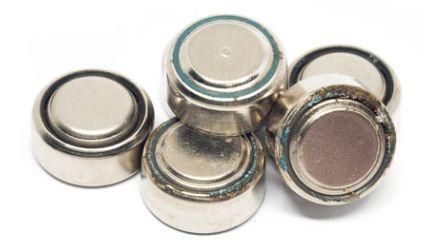battery: (265, 83, 394, 204), (31, 67, 156, 190), (164, 13, 286, 135), (143, 118, 267, 235), (287, 44, 398, 116)
